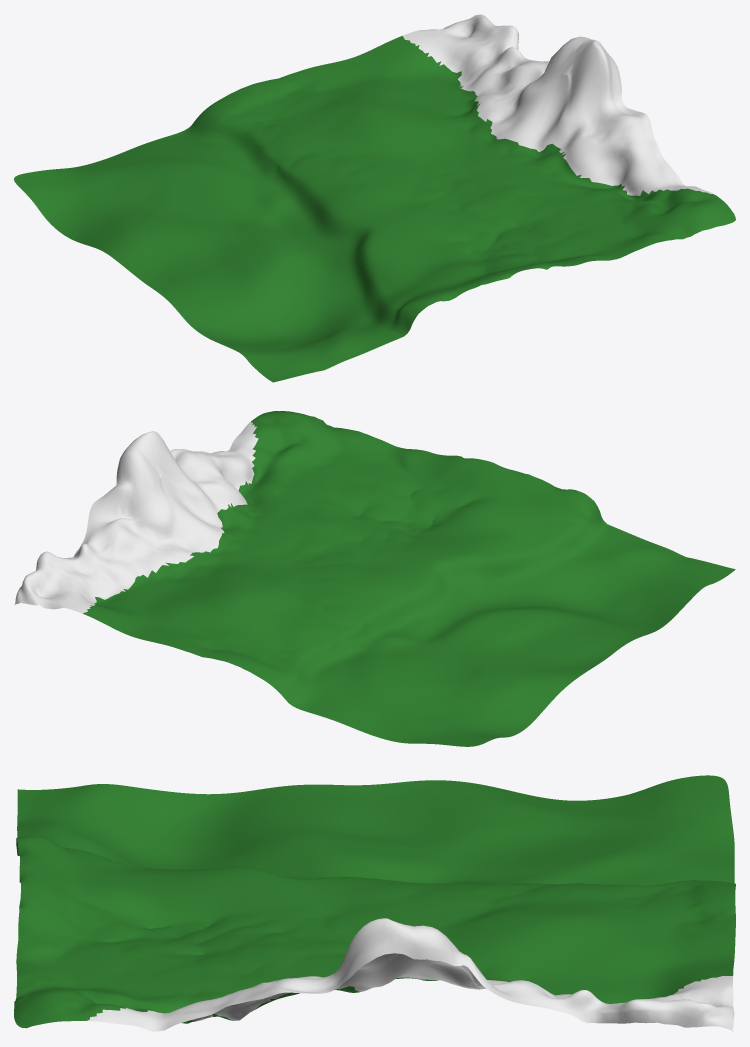
Rendered from hub.glb.
3 renders of one model, top to bottom at view 1: azimuth 30°, elevation 25°; view 2: azimuth 150°, elevation 25°; view 3: azimuth 270°, elevation 25°, orthographic. The views are drawn at different scales.
Parts seen in each view (by area): view 1: land; view 2: land; view 3: land.
Part boxes in pixels (x1=…): land: x1=14, y1=14, x2=735, y2=382; land: x1=14, y1=411, x2=735, y2=746; land: x1=14, y1=775, x2=735, y2=1031.
Size of the model in its own units: 2.05 by 0.5836 by 2.01.
